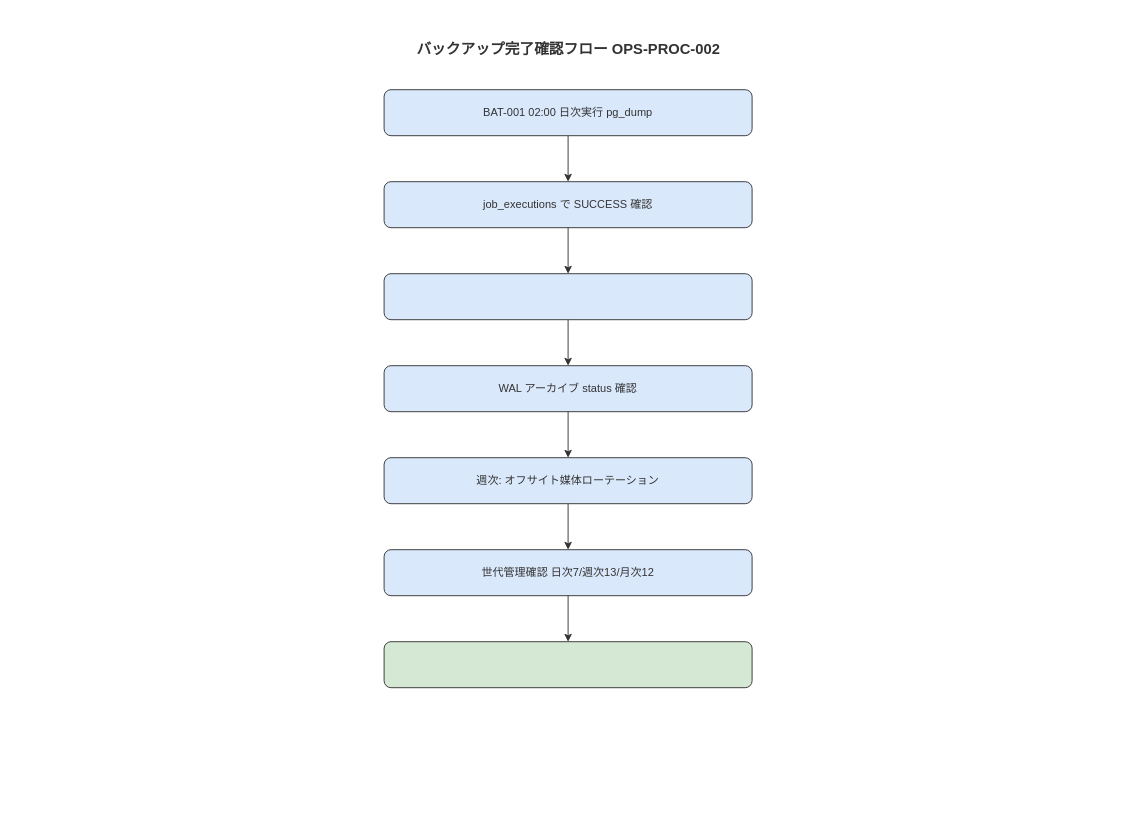
The diagram is 1135 pixels wide and 813 high, and some of its shapes have lost their labels. The shapes that lost their labels are listed below. From the top down, each one's centre as x and y in pixels, then its label:
point (567, 296): BAK ファイル存在確認 sha256sum
point (567, 664): maintenance_log 記録
